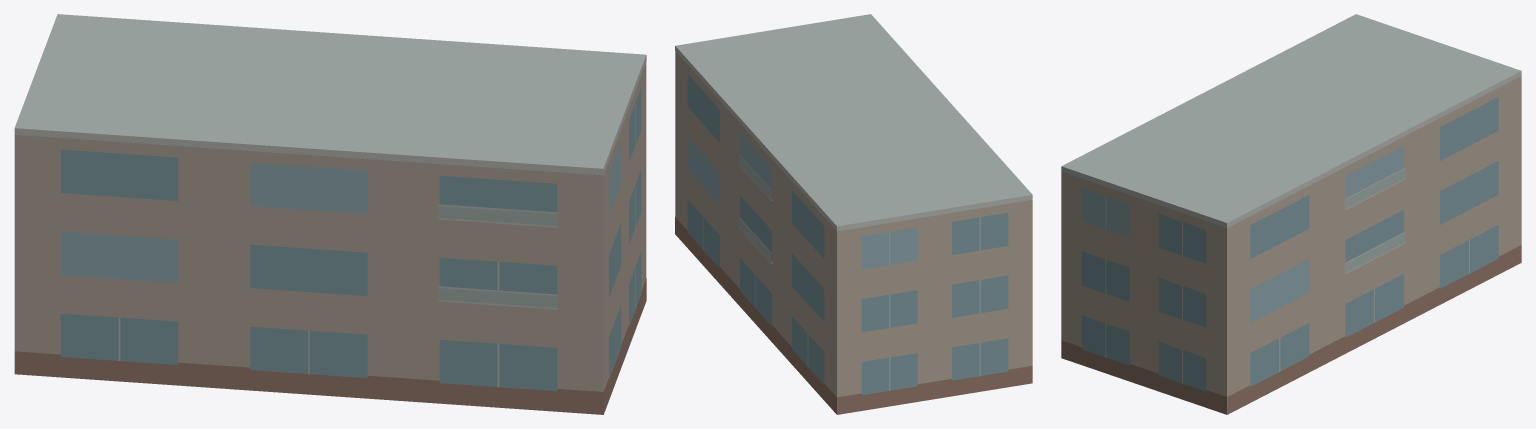
Rendered from survey-upis-32776195.glb.
The picture shows the model from 3 angles, left to right: view 1: azimuth 30°, elevation 25°; view 2: azimuth 150°, elevation 25°; view 3: azimuth 270°, elevation 25°; orthographic projection. The views are drawn at different scales.
Parts seen in each view (by area): view 1: survey-upis-32776195.tmp; view 2: survey-upis-32776195.tmp; view 3: survey-upis-32776195.tmp.
Boxes of the visible parts, <box> form: survey-upis-32776195.tmp: <box>14,14,646,414</box>; survey-upis-32776195.tmp: <box>675,14,1032,414</box>; survey-upis-32776195.tmp: <box>1061,14,1521,414</box>.
Size of the model in its own units: 21.39 by 9.15 by 19.9.
